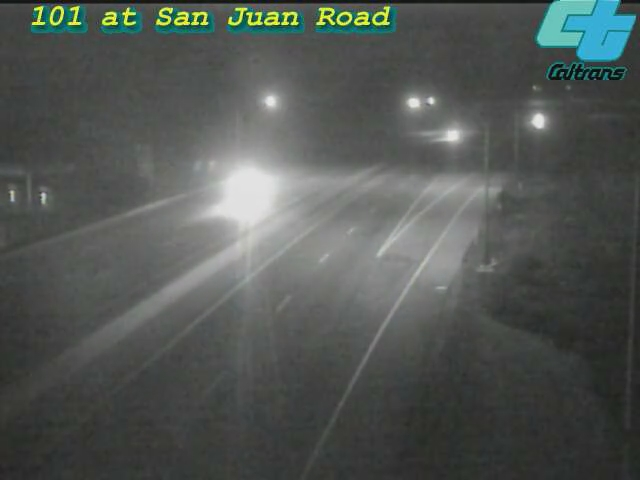vehicle: (205, 153, 285, 233), (426, 111, 476, 161), (515, 95, 565, 145)
